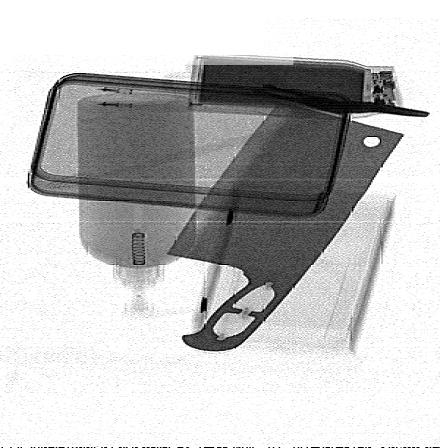Knife: (162, 100, 410, 350)
Powerbank: (185, 54, 403, 112)
Scissors: (241, 83, 436, 124)
